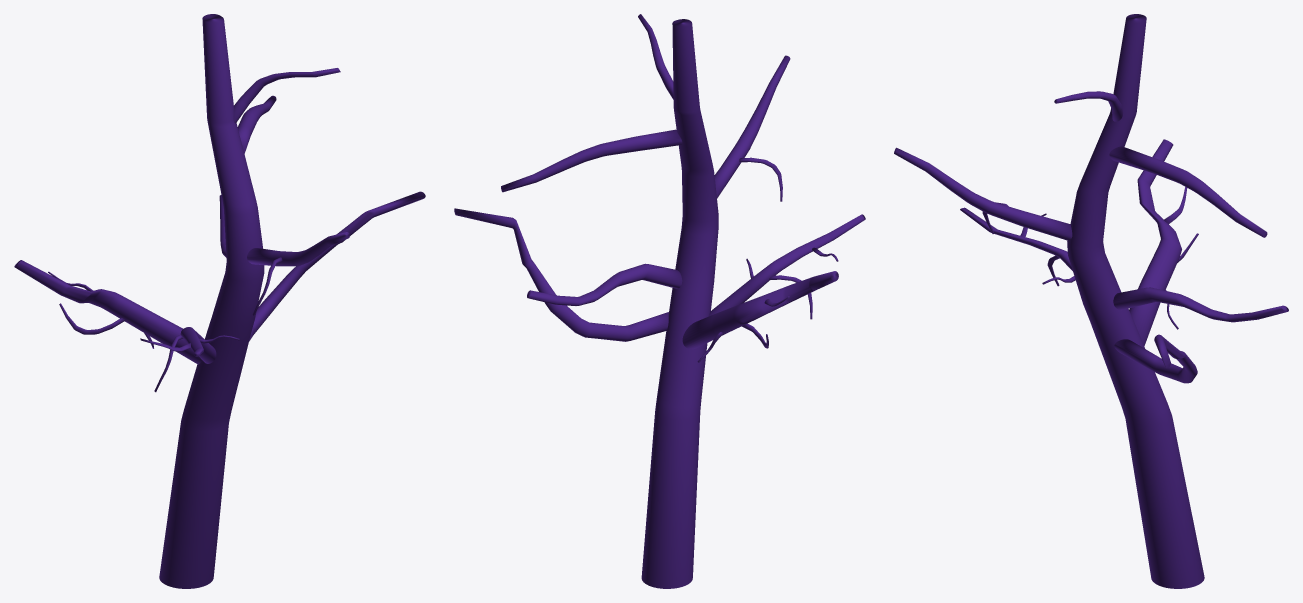
The model's file is Arbol_dead4.fbx.
3 views of the same model, side by side, from view 1: azimuth 30°, elevation 25°; view 2: azimuth 150°, elevation 25°; view 3: azimuth 270°, elevation 25° (orthographic). The views are drawn at different scales.
Visible parts, largest first — view 1: Arbol_dead.003; view 2: Arbol_dead.003; view 3: Arbol_dead.003.
Part boxes in pixels (bbox=[...]): Arbol_dead.003: bbox=[14, 14, 425, 588]; Arbol_dead.003: bbox=[454, 14, 865, 588]; Arbol_dead.003: bbox=[894, 14, 1288, 588].
Size of the model in its own units: 249 by 333 by 212.
